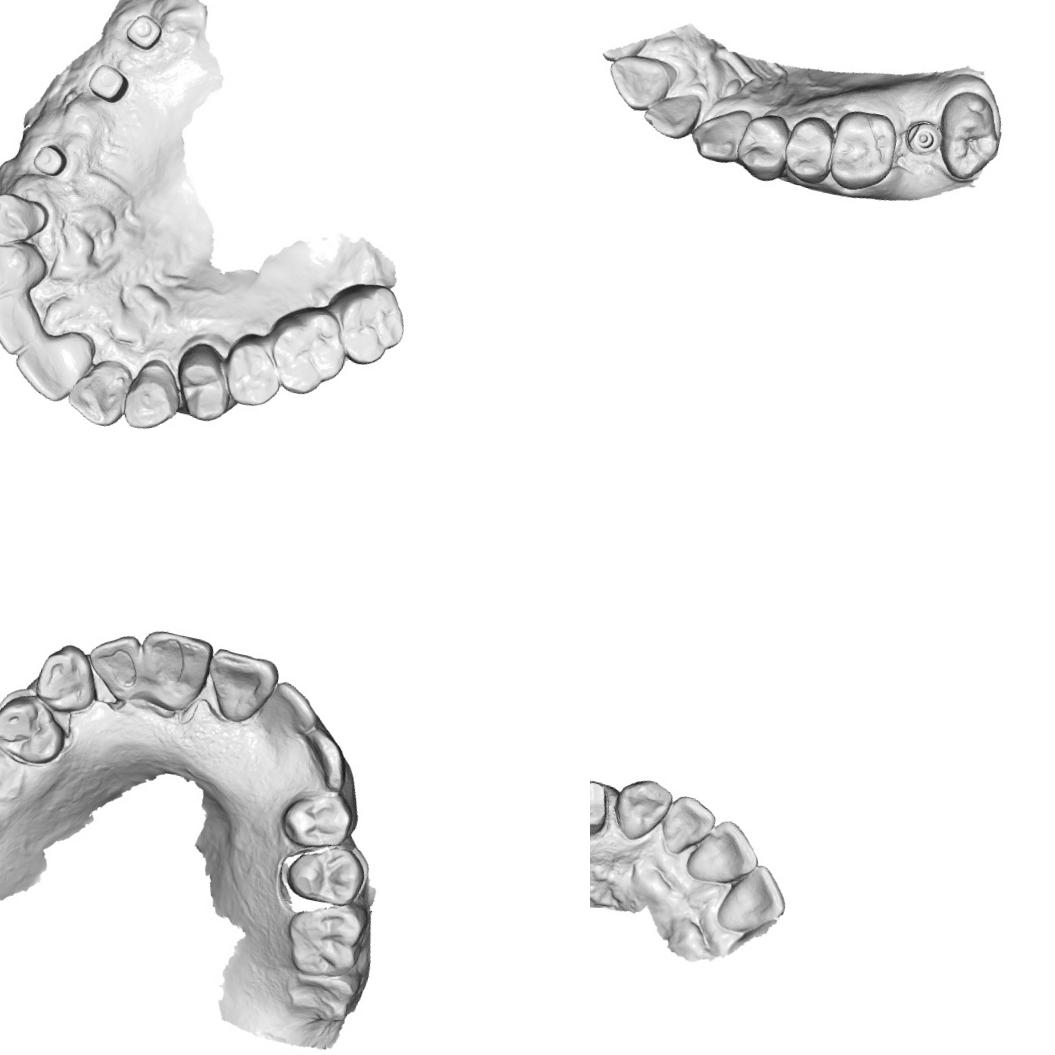abutment: (82, 57, 134, 109), (120, 8, 168, 56), (27, 139, 72, 182)
canine: (30, 638, 107, 720), (120, 353, 188, 438), (608, 773, 676, 848), (684, 98, 754, 168), (296, 722, 358, 796), (0, 186, 51, 255)
crown: (590, 775, 616, 844)
implant: (902, 116, 942, 159)
incisor: (7, 320, 100, 410), (131, 623, 218, 717), (200, 642, 284, 730), (712, 856, 794, 942), (683, 812, 766, 892), (78, 626, 154, 708), (61, 352, 136, 434), (602, 50, 676, 118), (653, 790, 720, 864), (0, 232, 55, 311), (261, 676, 326, 740), (638, 82, 705, 144), (0, 288, 44, 361)
molar: (259, 298, 358, 403), (318, 272, 414, 374), (928, 86, 1010, 187), (279, 897, 367, 986), (821, 104, 904, 198)
premolar: (166, 337, 244, 428), (281, 835, 371, 912), (276, 782, 361, 858), (213, 331, 290, 414), (0, 688, 74, 771), (730, 107, 798, 185), (778, 109, 840, 188), (0, 731, 26, 805)
